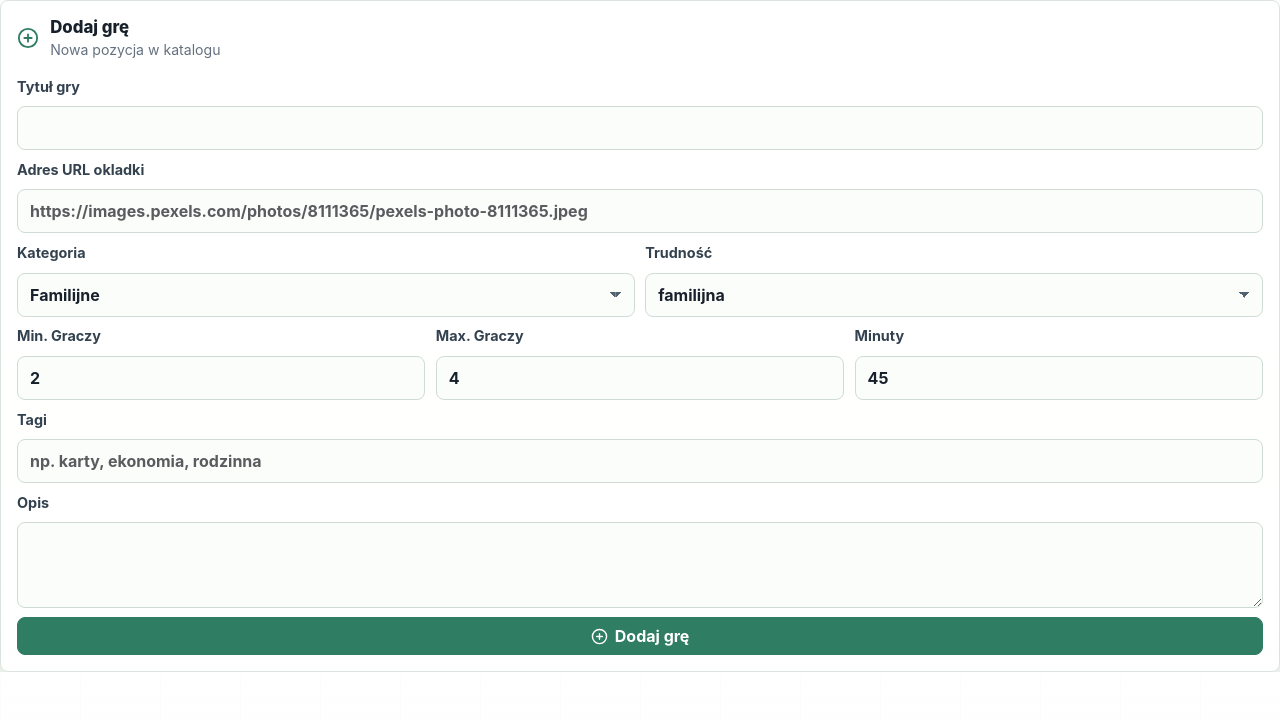
Test case: ManagerPanel › shows validation errors for empty invalid submit
Click the button "Dodaj grę" at {"x": 640, "y": 636}, box top-left (17, 617), bottom-right (1263, 655)
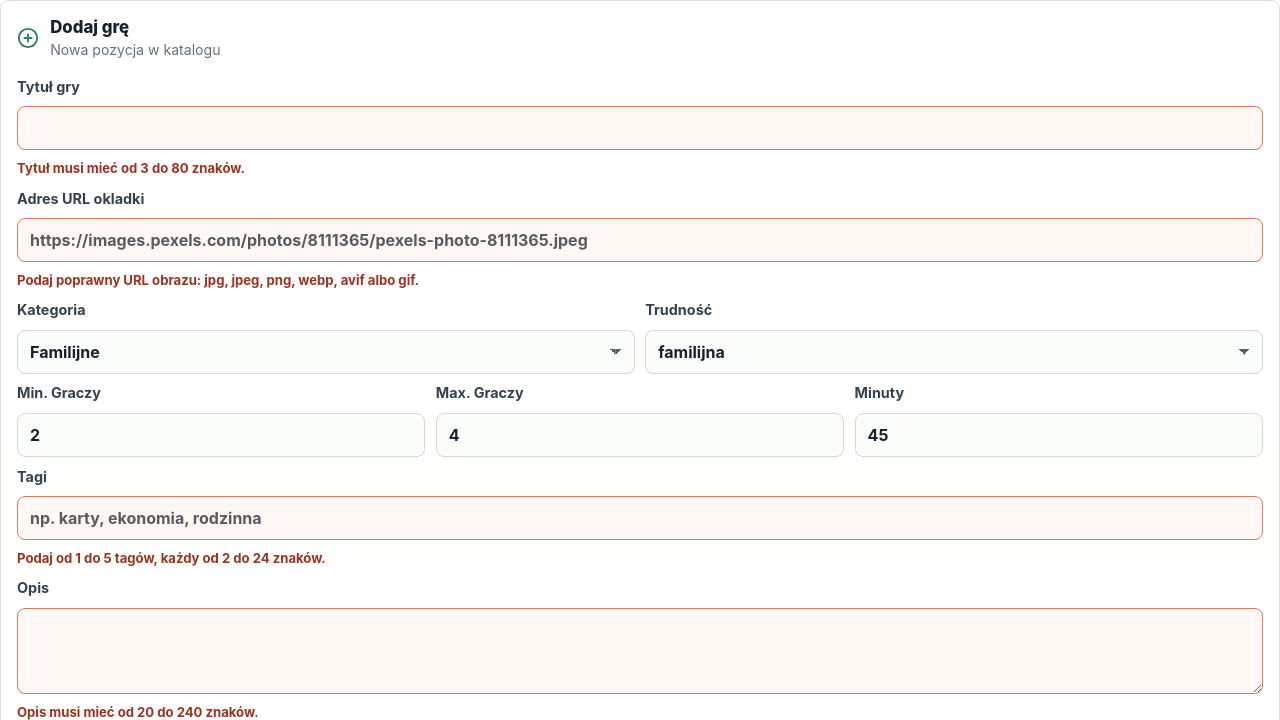
Now the text "Tytuł musi mieć od 3 do 80 znaków." is shown, box top-left (17, 160), bottom-right (245, 176)
Now the text "Podaj poprawny URL obrazu" is shown, box top-left (17, 272), bottom-right (419, 288)
Now the text "Opis musi mieć od 20 do 240 znaków." is shown, box top-left (17, 704), bottom-right (258, 719)
